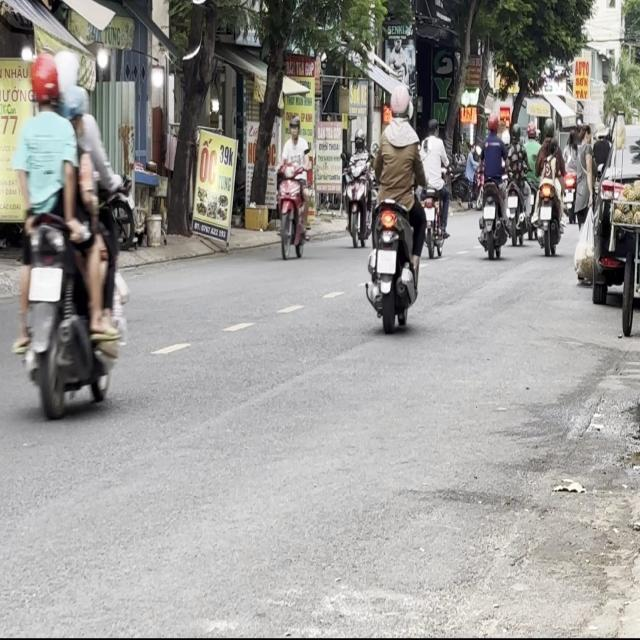helmet: (28, 53, 61, 111), (61, 89, 89, 140), (54, 50, 79, 90), (388, 81, 410, 120), (288, 113, 300, 139)
licenseplate: (9, 50, 129, 418), (364, 80, 426, 332), (274, 113, 312, 260)
nohelmet: (29, 266, 60, 300), (377, 249, 396, 274)
